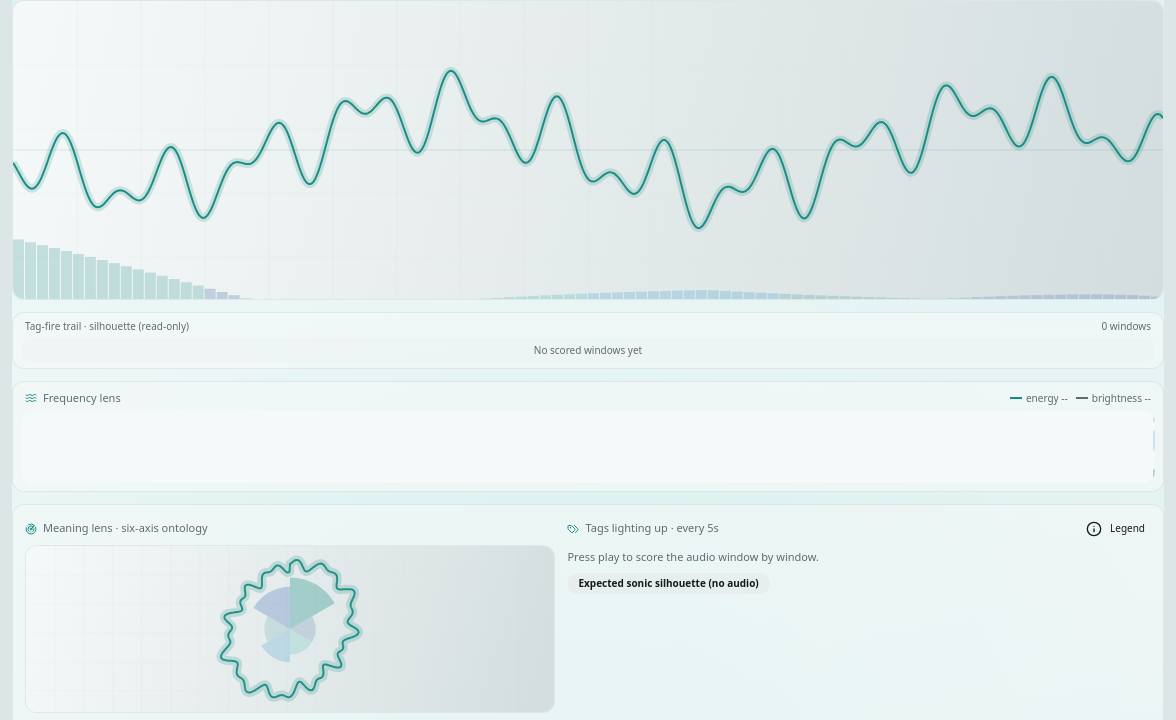
Test: SemanticScope › renders all three lenses with an in-panel legend
Expected: the text "Frequency lens" is shown, [25,390,121,406]
Expected: the text "Meaning lens · six-axis ontology" is shown, [25,520,208,537]
Click the button "Legend". click: (1116, 528)
box: [1080,516,1151,540]
(page scrolled)
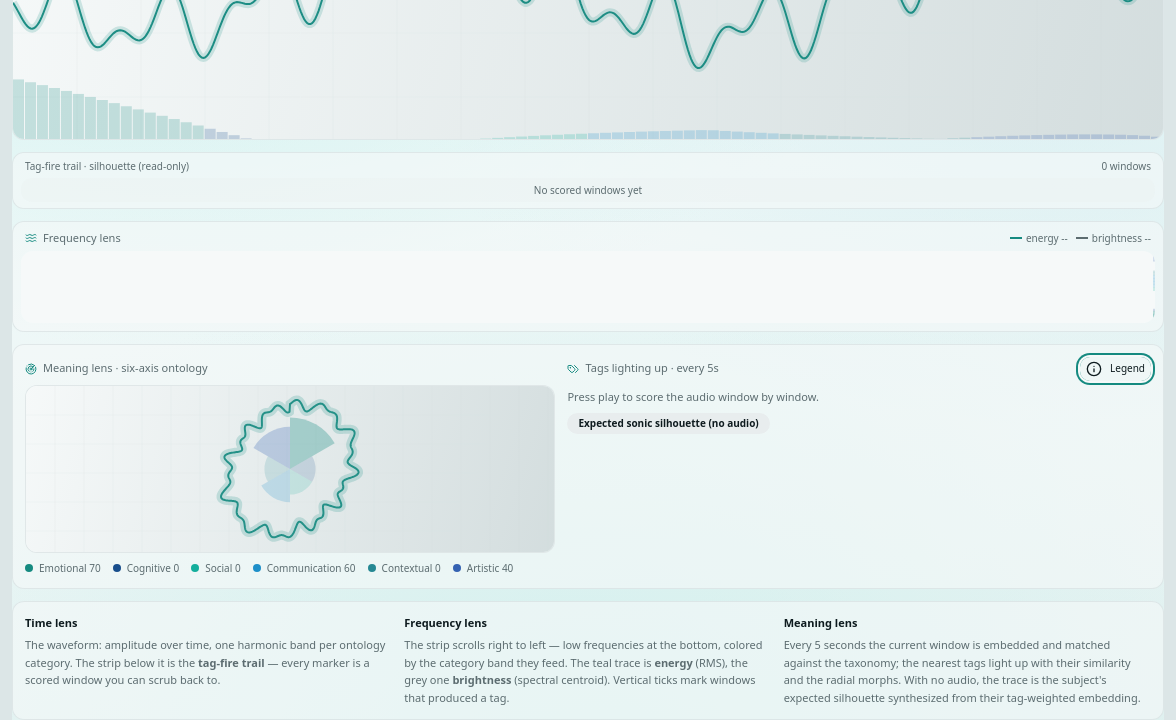
Expected: the text "Time lens" is shown, [25,615,77,630]
